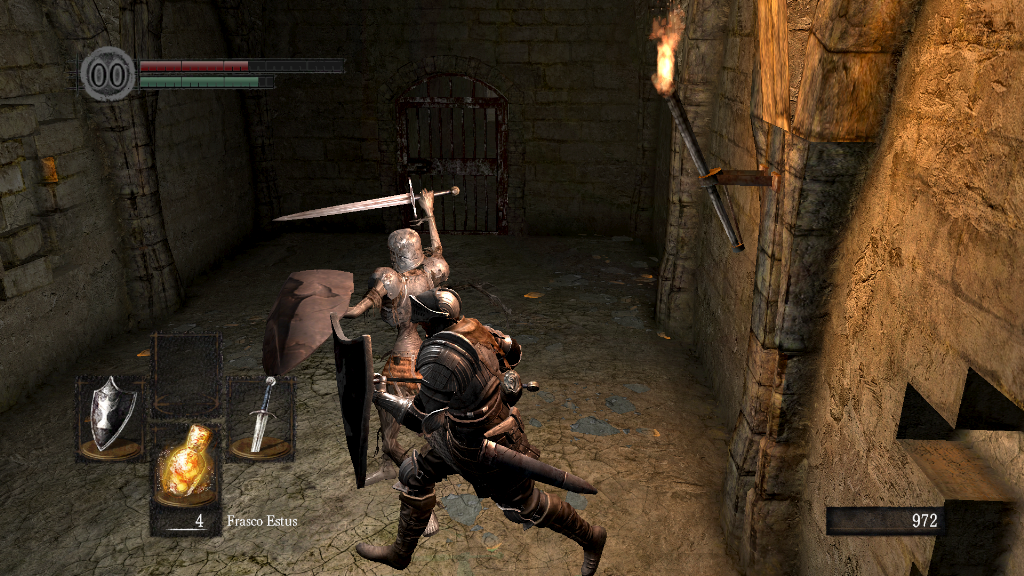health: (138, 58, 343, 71)
humanity: (80, 45, 136, 102)
player: (331, 288, 609, 576)
souls: (825, 506, 945, 536)
stamina: (138, 74, 274, 88)
undeadSoldier: (346, 189, 447, 527)
